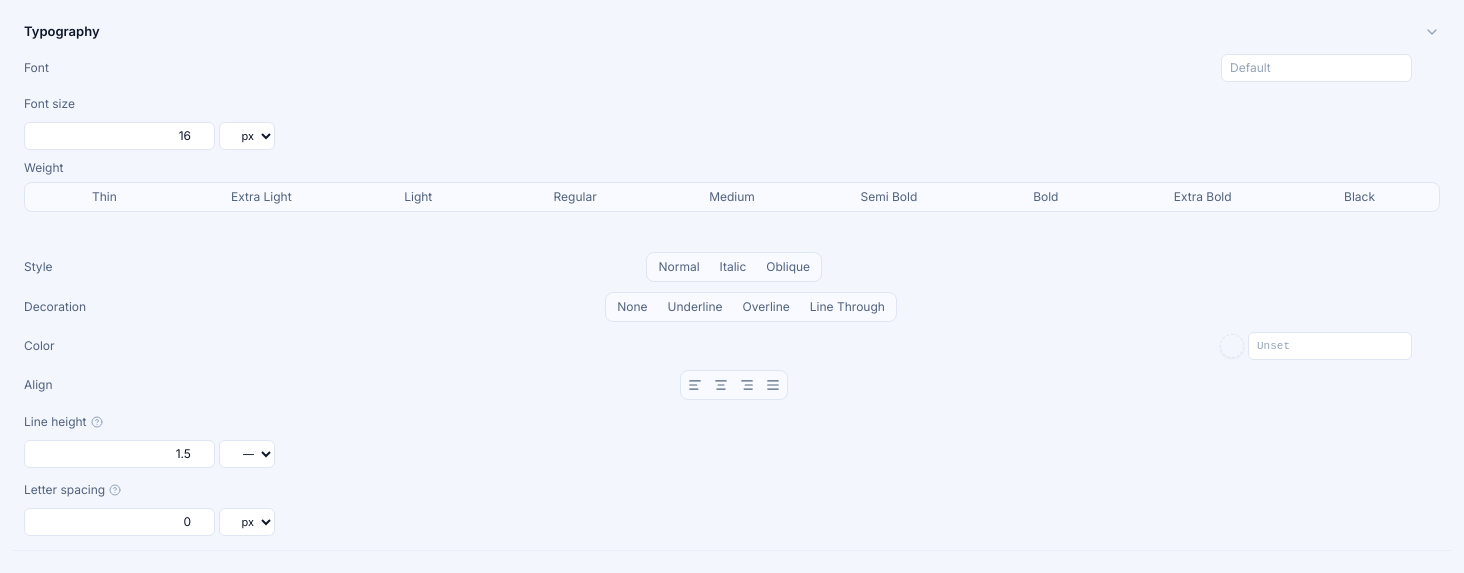
Test: InspectorTypographySection › rejects a malformed Text Color with a clear validation message and does not commit or crash
Type "not-a-color" into the field named "Text color" at (1330, 346), box [1248,332,1412,360]
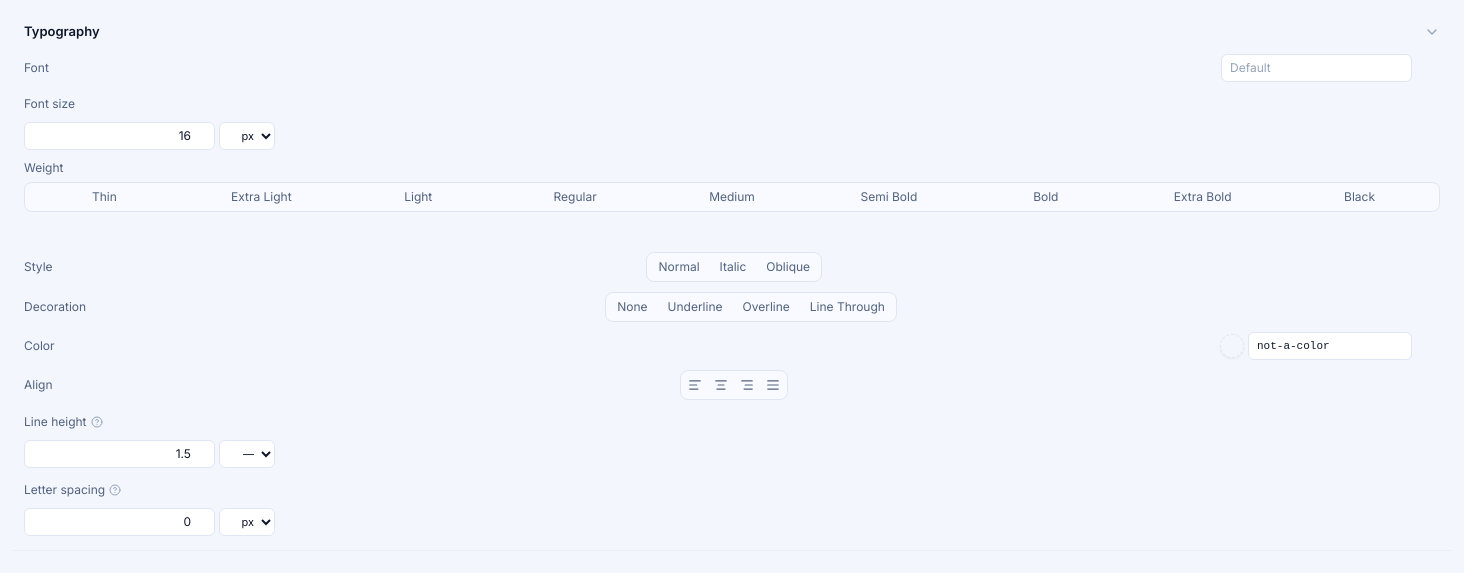
Leave the field named "Text color", box [1248,332,1412,360]
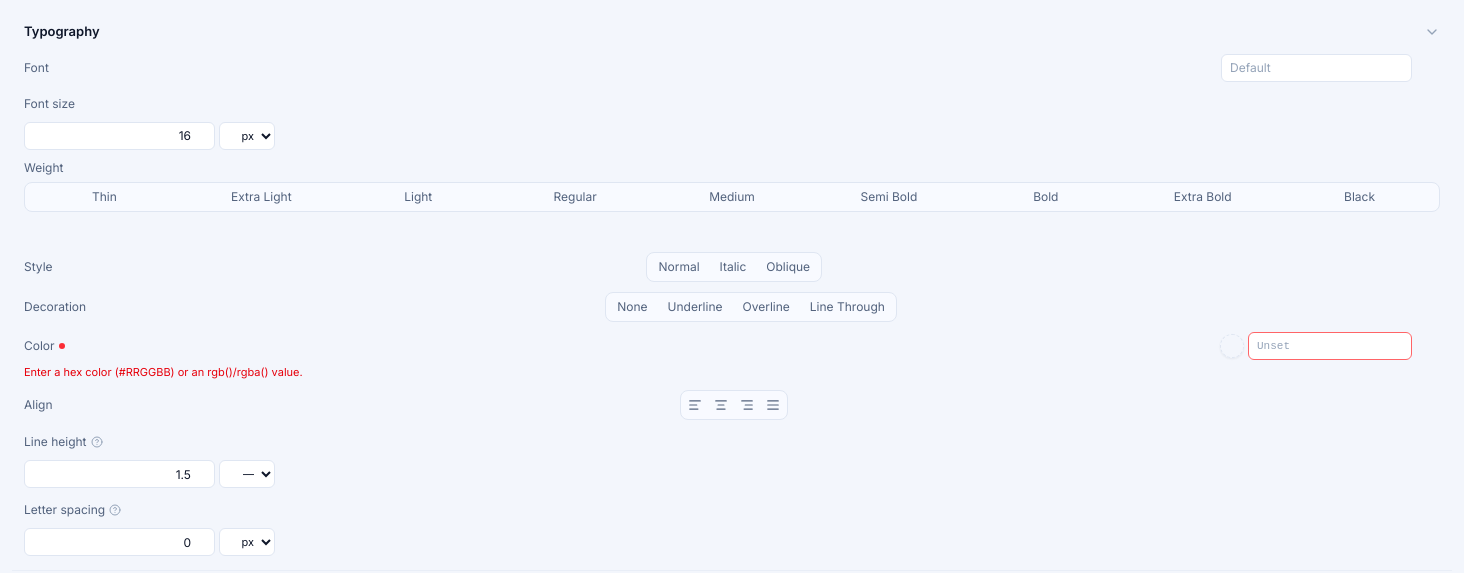
expect the message reads "Enter a hex color (#RRGGBB) or an rgb()/rgba() value.": met, box [24,364,303,378]
